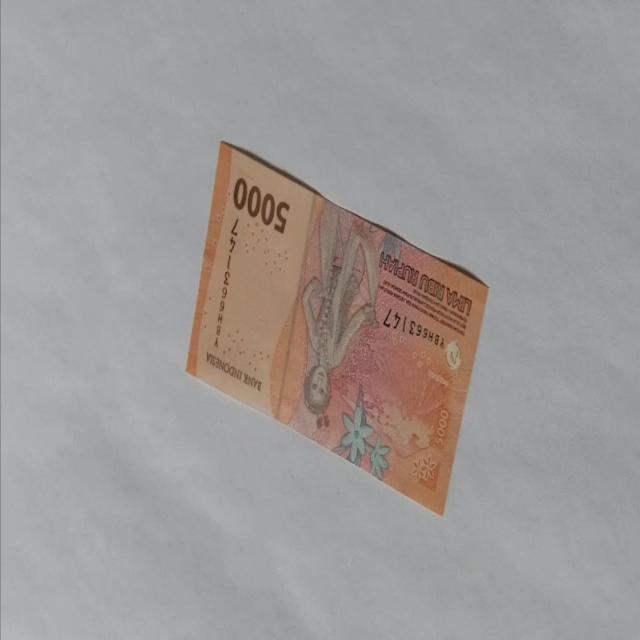lima ribu rupiah: (185, 138, 490, 518)
